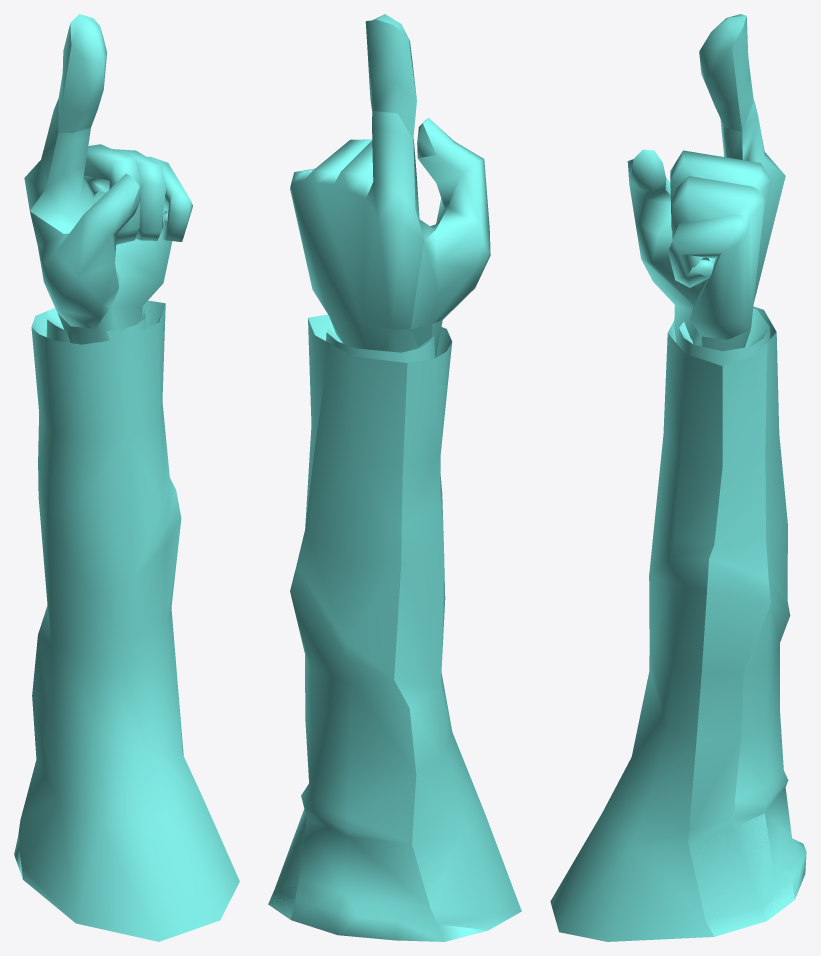
File: Arm.fbx
3 views of the same model, side by side, from view 1: azimuth 30°, elevation 25°; view 2: azimuth 150°, elevation 25°; view 3: azimuth 270°, elevation 25° (orthographic). The views are drawn at different scales.
Parts seen in each view (by area): view 1: Arm; view 2: Arm; view 3: Arm.
Part boxes in pixels (x1,y1,x2,y2): Arm: (14,14,239,941); Arm: (268,14,521,941); Arm: (550,14,806,941).
Bounding box in the file's own units: 0.32 × 1.42 × 0.3705.
Materials: 1 (1 with a texture image).
